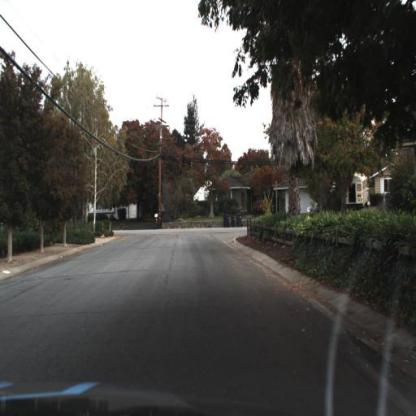truck: (337, 163, 371, 216)
